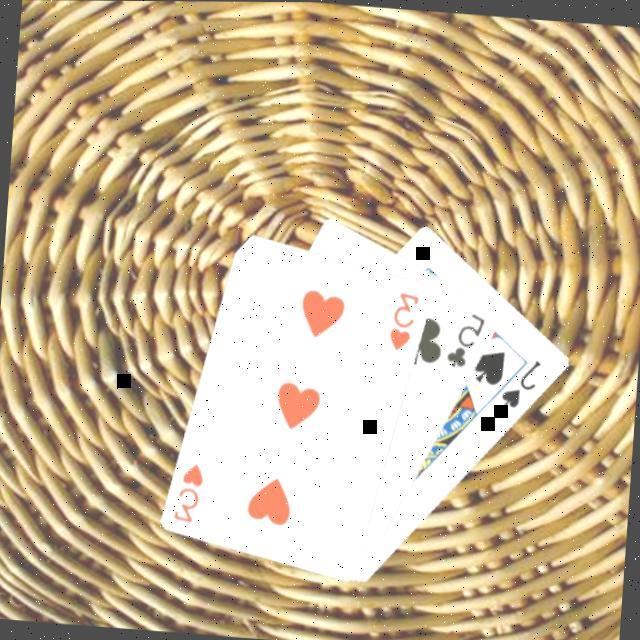3H: (171, 459, 210, 527), (387, 287, 424, 354)
5C: (445, 307, 491, 372)
JS: (499, 354, 547, 413)
